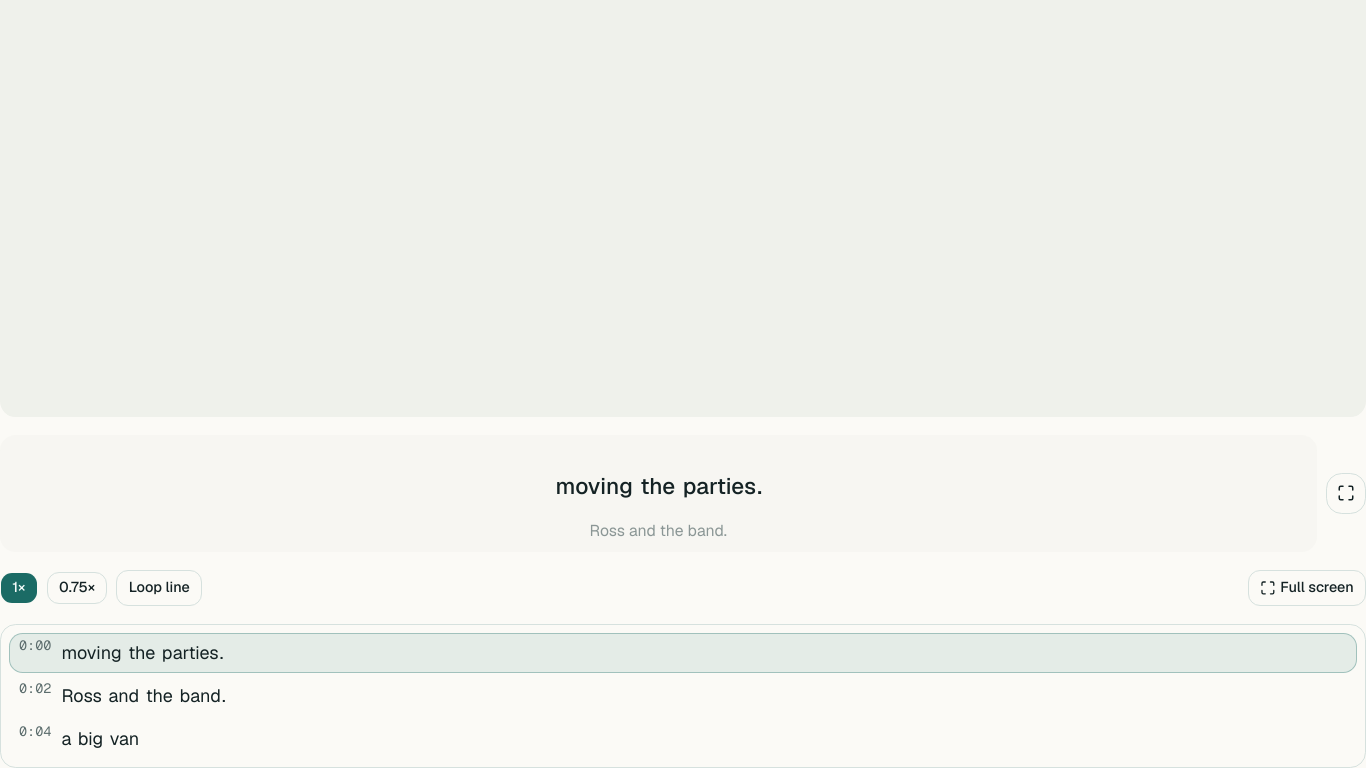
Scenario: the sheet, from the map › opens with the meaning already there — no request (the phone's tap)
(page scrolled)
Click the 2nd button "moving" at [92, 653], box [60,638,123,668]
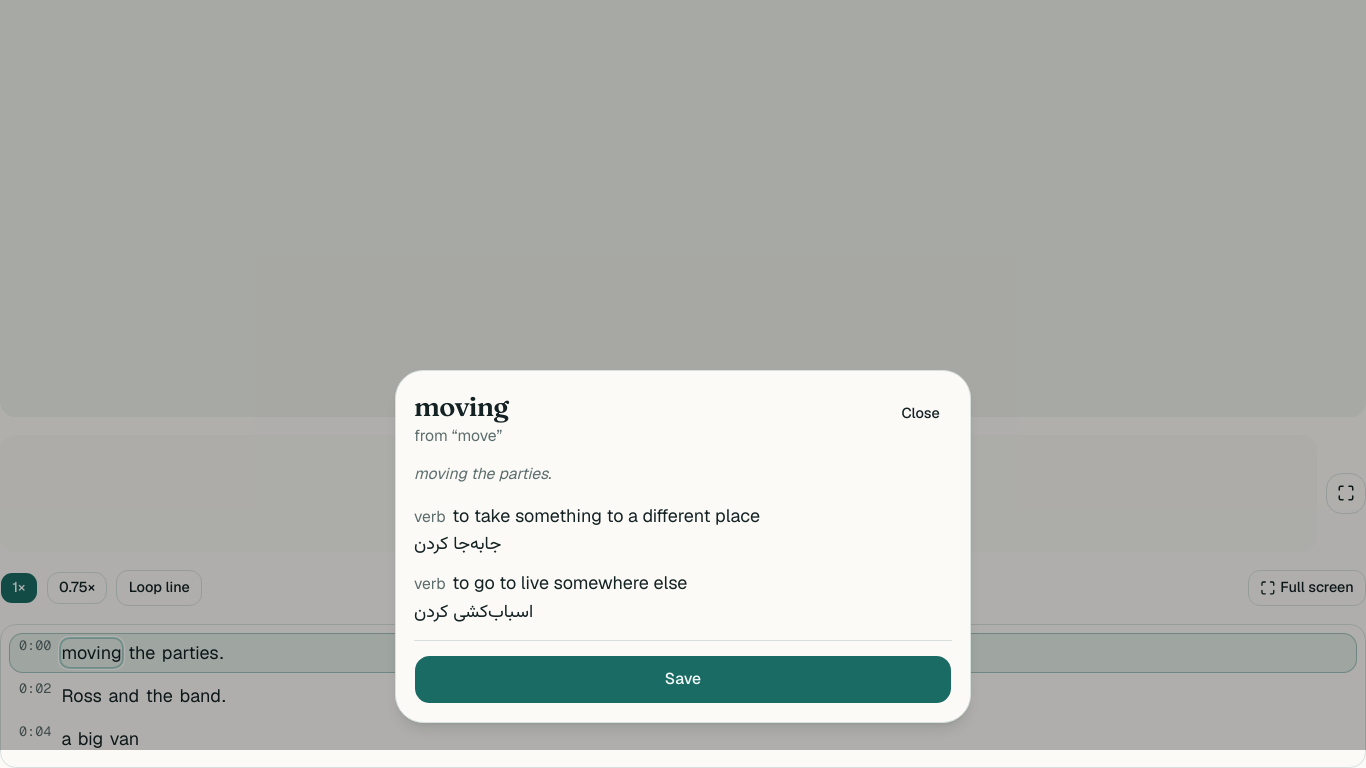
Result: the text with test id "word-sheet-lemma" shows "move" at [414,425,502,446]
Result: the text with test id "word-sheet-line" reads "moving the parties." at [414,463,551,484]
Result: the text with test id "word-sheet-l1" reads "جابه‌جا کردن" at [414,531,501,559]
